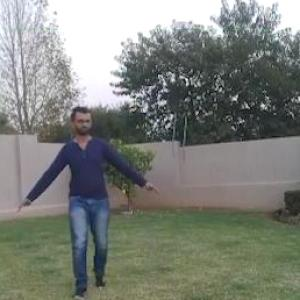land: (1, 94, 171, 299)
